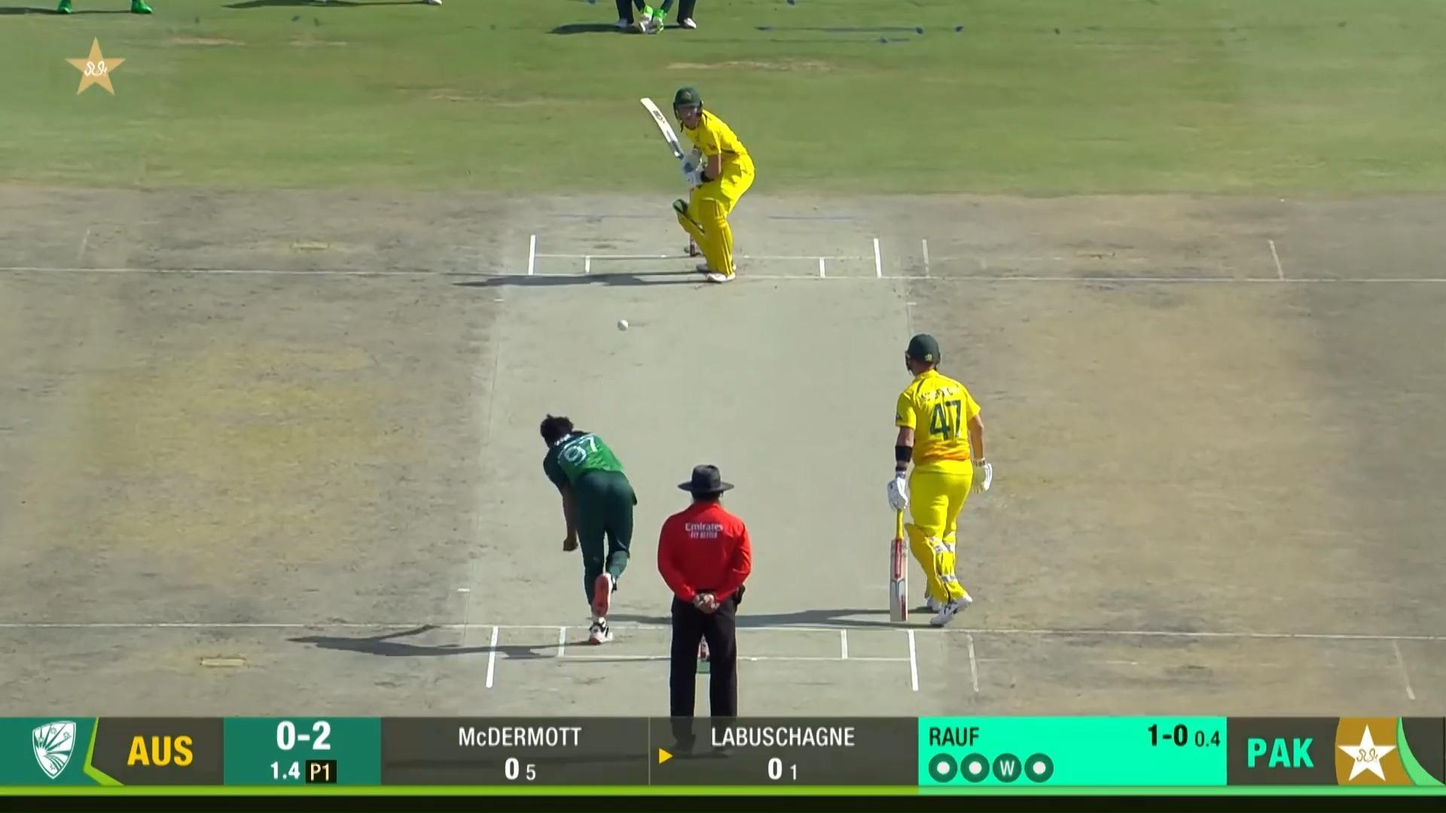BM 1: (640, 86, 757, 284)
BO: (539, 412, 640, 644)
